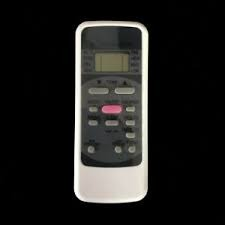remote control: (79, 20, 146, 203)
